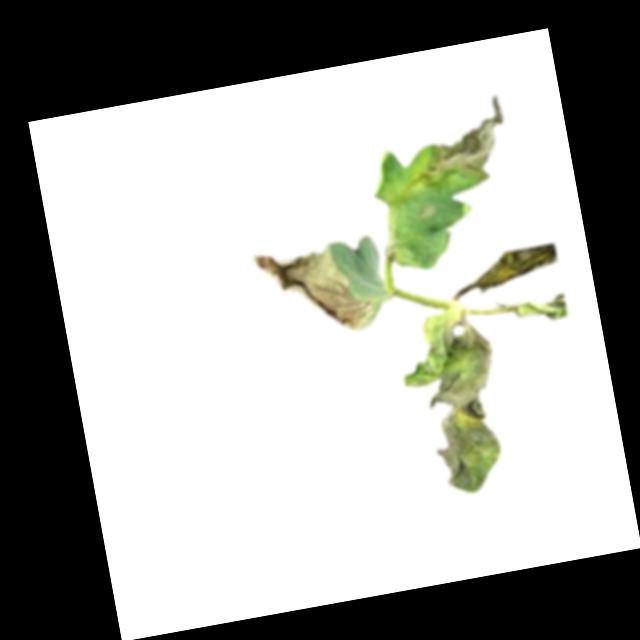Late_blight: (394, 307, 520, 499), (250, 236, 374, 347), (401, 89, 516, 194), (473, 244, 559, 294)
